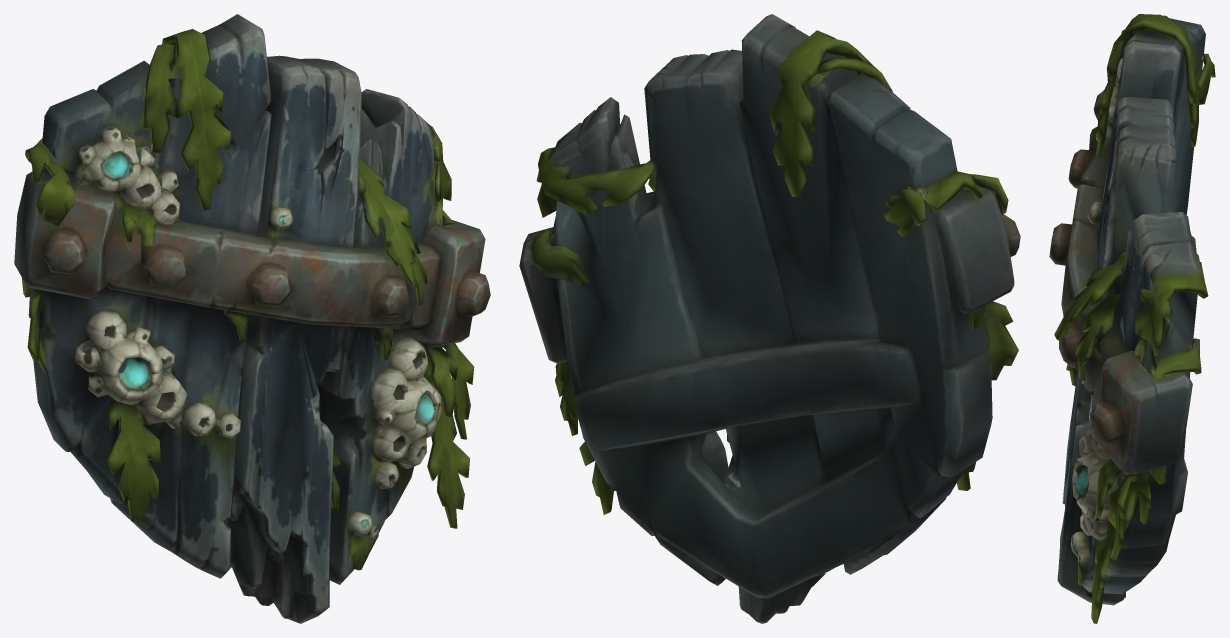
Rendered from tll_ch4_plankshield.glb.
3 renders of one model, left to right at view 1: azimuth 30°, elevation 25°; view 2: azimuth 150°, elevation 25°; view 3: azimuth 270°, elevation 25°, orthographic. The views are drawn at different scales.
Visible parts, largest first — view 1: tripo_node_4022e1ef-5d4e-49a6-8dab-584794d84cff; view 2: tripo_node_4022e1ef-5d4e-49a6-8dab-584794d84cff; view 3: tripo_node_4022e1ef-5d4e-49a6-8dab-584794d84cff.
Part boxes in pixels (left/top/right/bottom): tripo_node_4022e1ef-5d4e-49a6-8dab-584794d84cff: left=14, top=14, right=490, bottom=623; tripo_node_4022e1ef-5d4e-49a6-8dab-584794d84cff: left=519, top=14, right=1020, bottom=623; tripo_node_4022e1ef-5d4e-49a6-8dab-584794d84cff: left=1049, top=14, right=1215, bottom=623.
Size of the model in its own units: 0.656 by 0.8 by 0.2176.
1 material, 1 textured.
